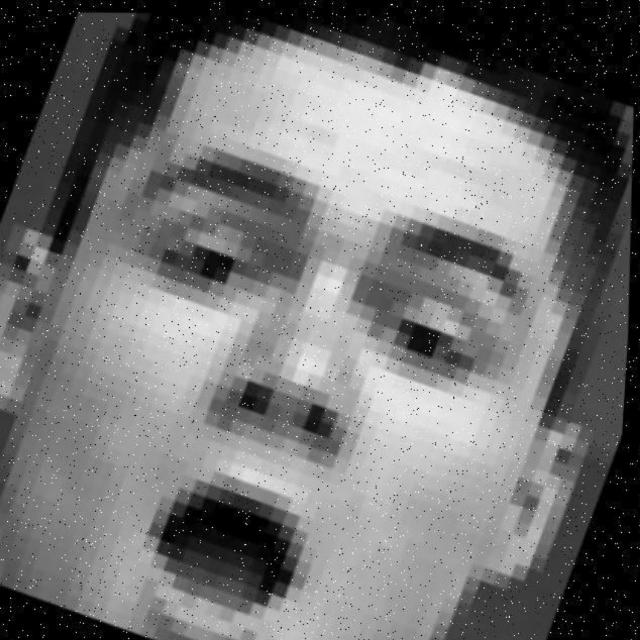Surprised: (48, 81, 592, 640)
